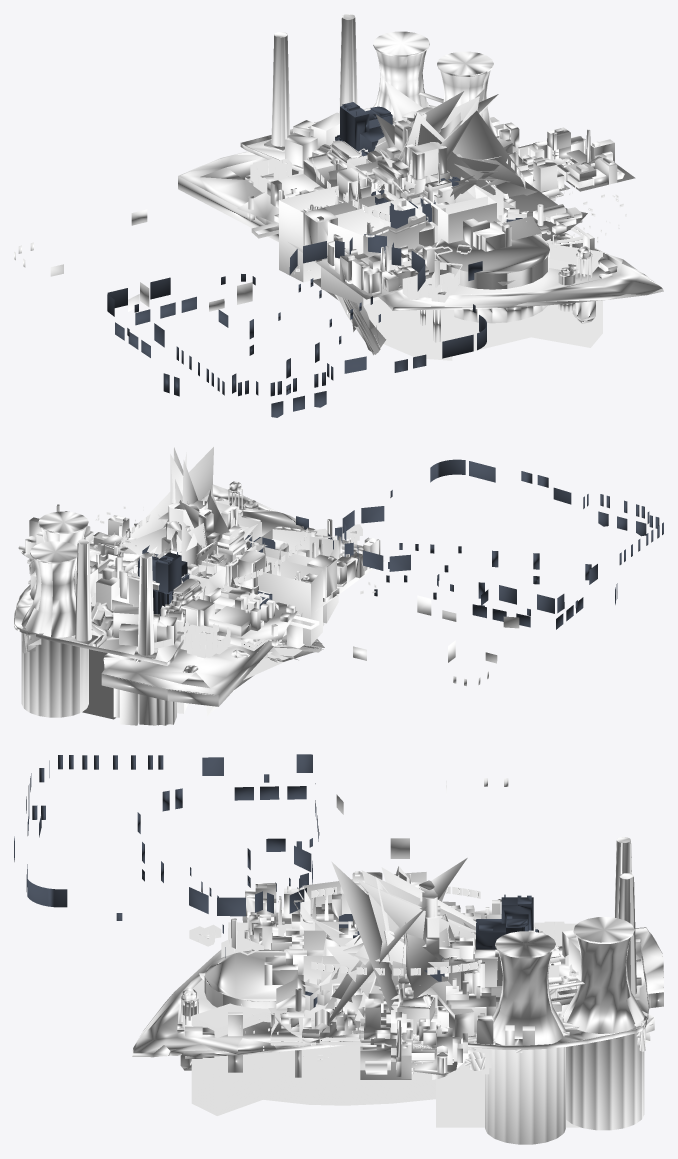
The model's file is fp_island2.glb.
3 views of the same model, one above another, from view 1: azimuth 30°, elevation 25°; view 2: azimuth 150°, elevation 25°; view 3: azimuth 270°, elevation 25° (orthographic). The views are drawn at different scales.
Parts seen in each view (by area): view 1: GC_Footprint_VRS_LongDist, GC_Footprint_VPOW_LongDist, GC_Footprint_LG_Reflections, GC_Footprint_STD_Reflection, GC_Footprint_ZD_Reflection, GC_Footprint_CC_LongDist, GC_Footprint_DF_LongDist, GC_Footprint_CF_LongDist, GC_Footprint_AJ_LongDist, GC_Footprint_CG_LongDist, GC_Footprint_VRS_Reflection, GC_Footprint_ZF_reflection (+11 smaller); view 2: GC_Footprint_VPOW_LongDist, GC_Footprint_VPOW_Reflection, GC_Footprint_VRS_LongDist, GC_Footprint_DF_LongDist, GC_Footprint_LG_Reflections, GC_Footprint_ZD_Reflection, GC_Footprint_CC_LongDist, GC_Footprint_CF_LongDist, GC_Footprint_VRS_Reflection, GC_Footprint_ZF_reflection, GC_Footprint_ZA_Reflection, GC_Footprint_CJ_LongDist (+16 smaller); view 3: GC_Footprint_VPOW_LongDist, GC_Footprint_VPOW_Reflection, GC_Footprint_STD_Reflection, GC_Footprint_VRS_LongDist, GC_Footprint_CC_LongDist, GC_Footprint_DF_LongDist, GC_Footprint_AJ_LongDist, GC_Footprint_ZD_Reflection, GC_Footprint_CF_LongDist, GC_Footprint_CG_LongDist, GC_Footprint_CJ_LongDist, GC_Footprint_DSE_Reflection (+14 smaller).
Boxes of the visible parts, left/top/right/bottom form: GC_Footprint_VRS_LongDist: left=179, top=151, right=663, bottom=310; GC_Footprint_VPOW_LongDist: left=240, top=14, right=525, bottom=171; GC_Footprint_LG_Reflections: left=279, top=179, right=496, bottom=305; GC_Footprint_STD_Reflection: left=334, top=240, right=602, bottom=360; GC_Footprint_ZD_Reflection: left=107, top=234, right=486, bottom=417; GC_Footprint_CC_LongDist: left=328, top=89, right=520, bottom=223; GC_Footprint_DF_LongDist: left=237, top=140, right=587, bottom=286; GC_Footprint_CF_LongDist: left=288, top=199, right=515, bottom=299; GC_Footprint_AJ_LongDist: left=517, top=127, right=635, bottom=198; GC_Footprint_CG_LongDist: left=379, top=81, right=567, bottom=222; GC_Footprint_VRS_Reflection: left=178, top=151, right=595, bottom=342; GC_Footprint_ZF_reflection: left=250, top=151, right=626, bottom=302; GC_Footprint_VPOW_LongDist: left=14, top=511, right=189, bottom=665; GC_Footprint_VPOW_Reflection: left=21, top=633, right=188, bottom=725; GC_Footprint_VRS_LongDist: left=102, top=481, right=333, bottom=695; GC_Footprint_DF_LongDist: left=89, top=523, right=341, bottom=639; GC_Footprint_LG_Reflections: left=232, top=516, right=338, bottom=645; GC_Footprint_ZD_Reflection: left=328, top=459, right=663, bottom=616; GC_Footprint_CC_LongDist: left=130, top=447, right=237, bottom=633; GC_Footprint_CF_LongDist: left=238, top=509, right=384, bottom=611; GC_Footprint_VRS_Reflection: left=101, top=624, right=289, bottom=706; GC_Footprint_ZF_reflection: left=91, top=506, right=376, bottom=658; GC_Footprint_ZA_Reflection: left=296, top=516, right=617, bottom=629; GC_Footprint_CJ_LongDist: left=30, top=532, right=203, bottom=610; GC_Footprint_VPOW_LongDist: left=431, top=837, right=649, bottom=1049; GC_Footprint_VPOW_Reflection: left=485, top=1033, right=644, bottom=1144; GC_Footprint_STD_Reflection: left=191, top=948, right=435, bottom=1115; GC_Footprint_VRS_LongDist: left=132, top=918, right=663, bottom=1057; GC_Footprint_CC_LongDist: left=310, top=861, right=476, bottom=1013; GC_Footprint_DF_LongDist: left=249, top=895, right=501, bottom=1042; GC_Footprint_AJ_LongDist: left=360, top=955, right=484, bottom=1079; GC_Footprint_ZD_Reflection: left=14, top=754, right=315, bottom=920; GC_Footprint_CF_LongDist: left=199, top=871, right=382, bottom=985; GC_Footprint_CG_LongDist: left=315, top=858, right=475, bottom=1034; GC_Footprint_CJ_LongDist: left=375, top=949, right=534, bottom=1048; GC_Footprint_DSE_Reflection: left=436, top=1036, right=623, bottom=1127.
Size of what is drawn, in the model's own units: 671 by 276 by 634.
